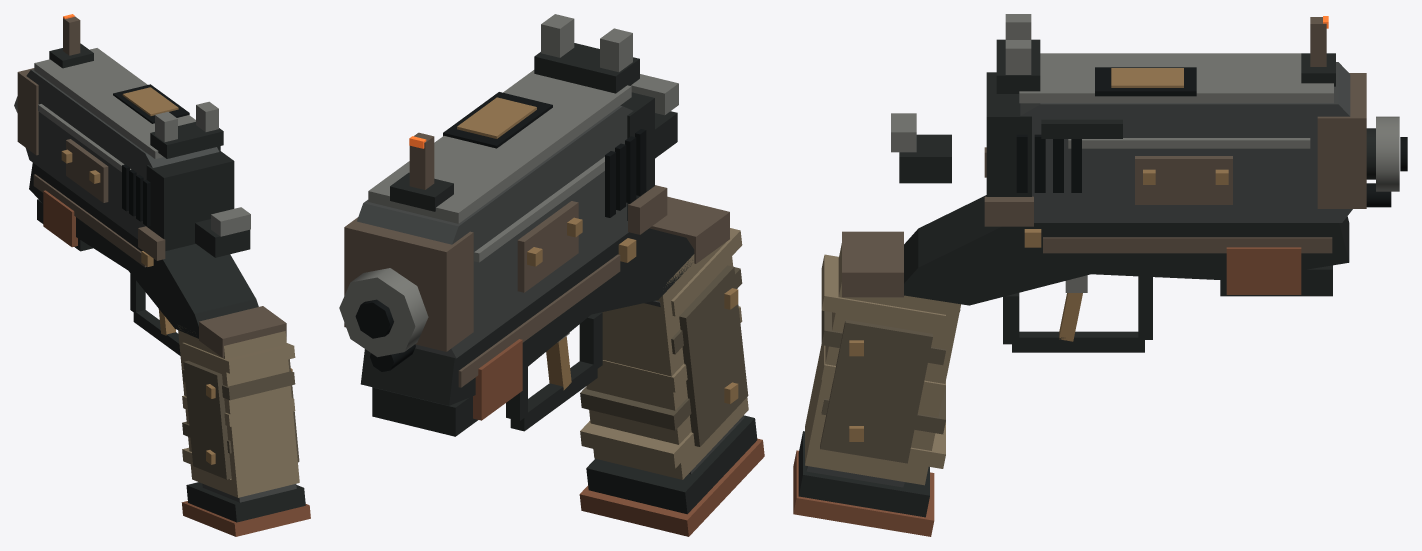
File: ember.glb
3 views of the same model, side by side, from view 1: azimuth 30°, elevation 25°; view 2: azimuth 150°, elevation 25°; view 3: azimuth 270°, elevation 25° (orthographic). The views are drawn at different scales.
Parts seen in each view (by area): view 1: Merged_material (×9), Lower cast frame; view 2: Merged_material (×9), Lower cast frame; view 3: Merged_material (×9), Lower cast frame.
Part boxes in pixels (box(x1,y1,x2,y2)): Merged_material (×9): box(14, 16, 310, 536); Lower cast frame: box(29, 163, 258, 338); Merged_material (×9): box(339, 14, 764, 536); Lower cast frame: box(360, 228, 694, 405); Merged_material (×9): box(793, 14, 1407, 536); Lower cast frame: box(904, 195, 1349, 305).
Bounding box in the file's own units: 0.074 × 0.2998 × 0.3378.
